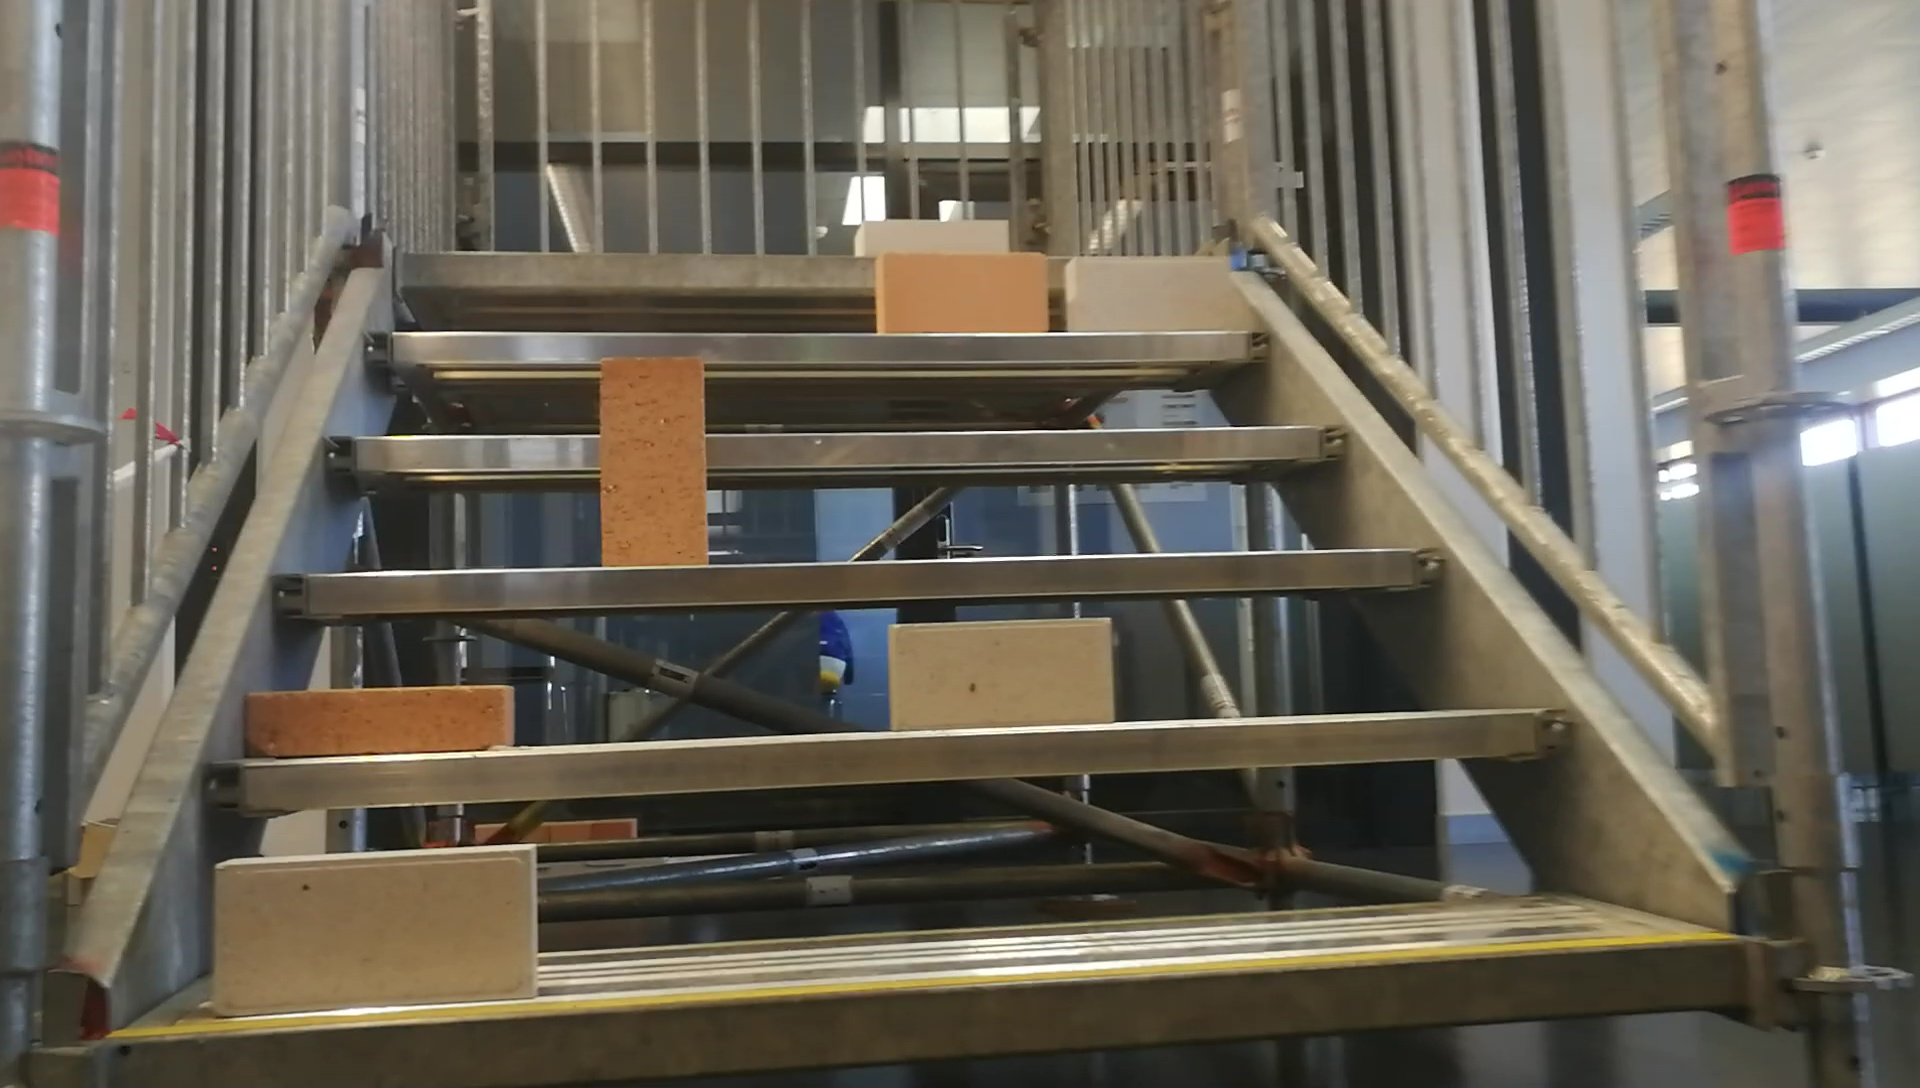brick: (215, 845, 535, 1005), (885, 617, 1112, 729), (603, 359, 704, 564), (251, 683, 513, 756), (874, 253, 1048, 330), (1068, 256, 1232, 330), (860, 223, 1007, 251)
edge: (108, 935, 1735, 1068), (200, 706, 1572, 808), (272, 542, 1443, 613), (327, 427, 1357, 466), (397, 247, 1226, 287), (363, 332, 1275, 361)
steps: (98, 208, 1753, 1080)
